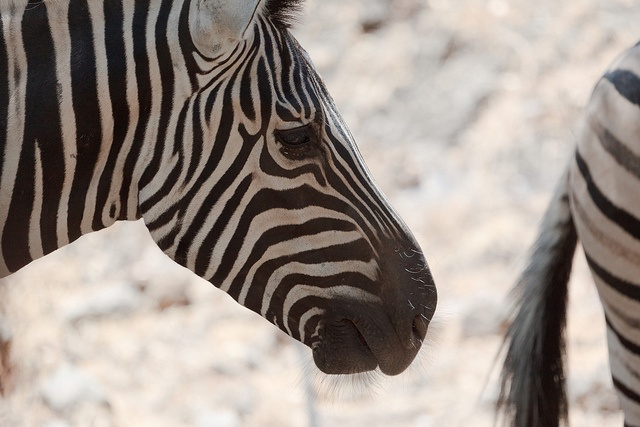zebra: (0, 2, 436, 374), (495, 38, 640, 426)
